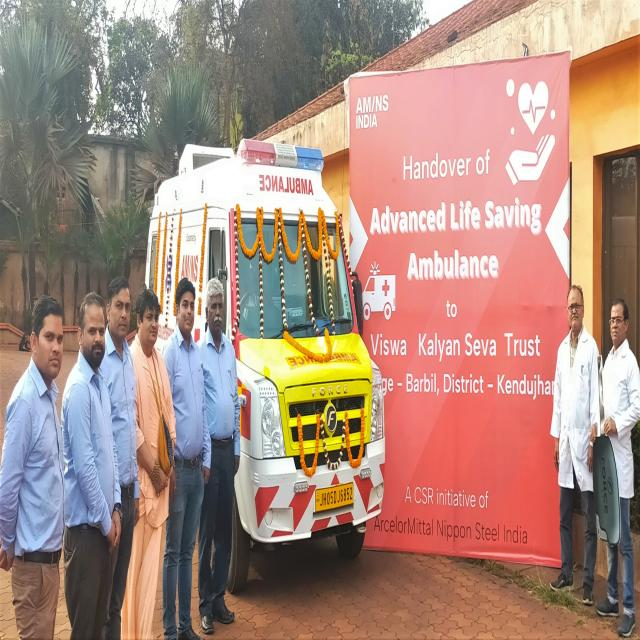emergency: (148, 141, 385, 590)
